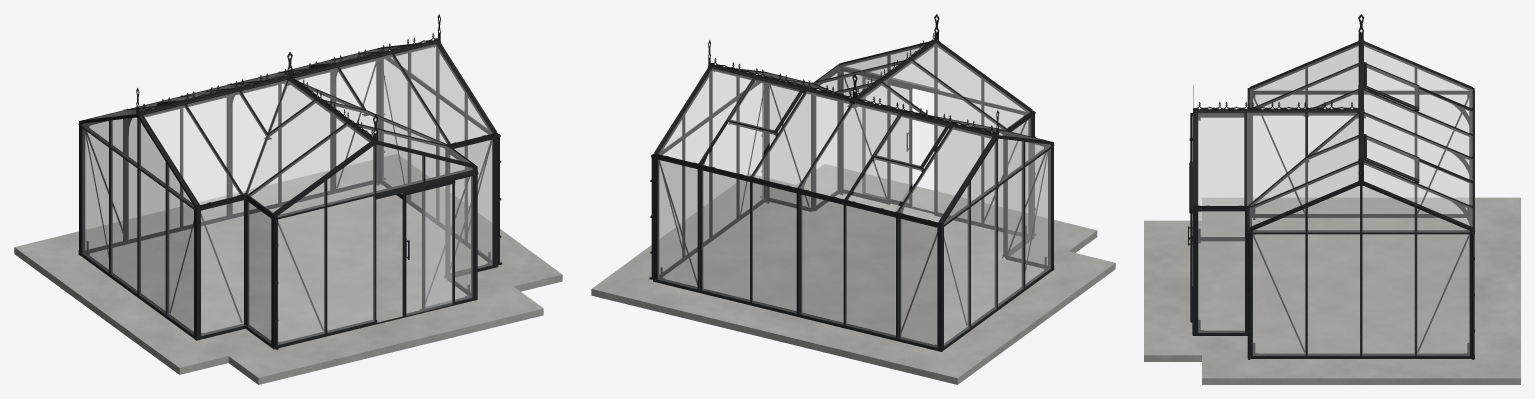
Rendered from scandiglas-tshape-decor-sv.glb.
The picture shows the model from 3 angles, left to right: view 1: azimuth 30°, elevation 25°; view 2: azimuth 150°, elevation 25°; view 3: azimuth 270°, elevation 25°; orthographic projection. The views are drawn at different scales.
Parts seen in each view (by area): view 1: scandiglas-tshape-decor; view 2: scandiglas-tshape-decor; view 3: scandiglas-tshape-decor.
Part boxes in pixels (box(x1,y1,x2,y2)): scandiglas-tshape-decor: box(14, 14, 562, 384); scandiglas-tshape-decor: box(591, 14, 1115, 384); scandiglas-tshape-decor: box(1144, 14, 1520, 384).
Size of the model in its own units: 5.83 by 3.16 by 5.14.
4 materials, 1 textured.
